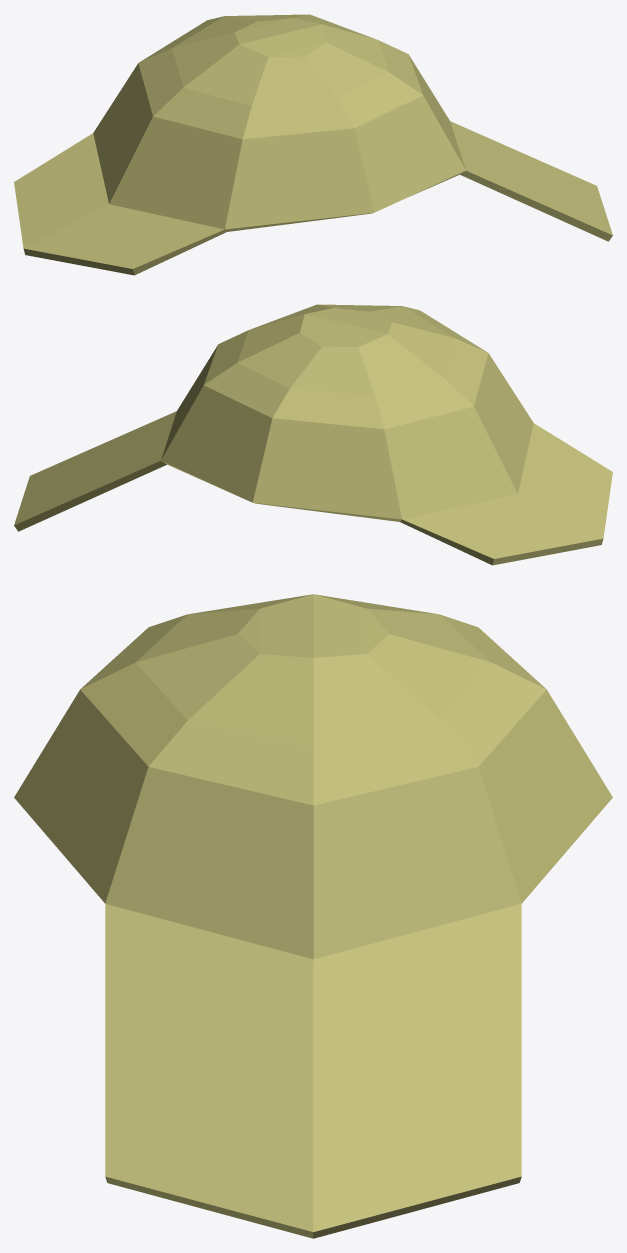
Rendered from шляпа (полная).fbx.
3 views of the same model, one above another, from view 1: azimuth 30°, elevation 25°; view 2: azimuth 150°, elevation 25°; view 3: azimuth 270°, elevation 25° (orthographic). The views are drawn at different scales.
Parts seen in each view (by area): view 1: ШЛЯПА; view 2: ШЛЯПА; view 3: ШЛЯПА.
Boxes of the visible parts, left/top/right/bottom form: ШЛЯПА: left=14, top=14, right=612, bottom=275; ШЛЯПА: left=14, top=304, right=612, bottom=565; ШЛЯПА: left=14, top=594, right=612, bottom=1238.
Bounding box in the file's own units: 54.72 × 21.4 × 31.29.
